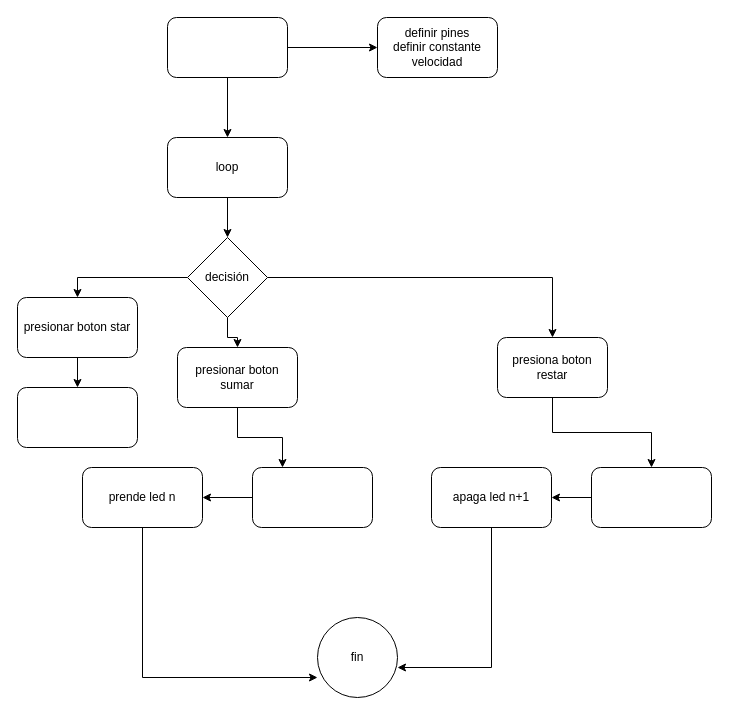
The diagram is 729 pixels wide and 715 high, and some of its shapes have lost their labels. The shapes that lost their labels are listed below. From the top down, each one's box as (x1, y1, x2, y2) in pixels, then its label:
(166, 16, 288, 78): inicio
(16, 386, 138, 448): prende boton intermitente de acuerdo a la variable resultado
(252, 466, 372, 528): aumenta resultado en n
(590, 466, 712, 528): dismuye resultado en n pulsaciones
